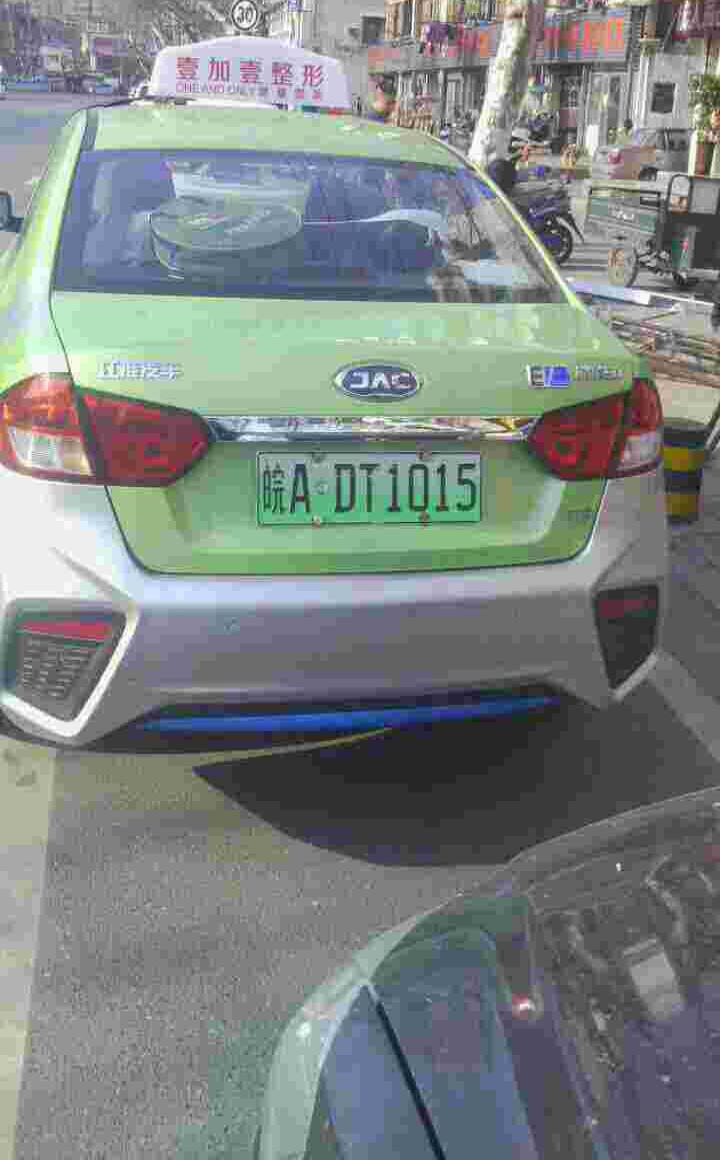car: (253, 448, 488, 535)
